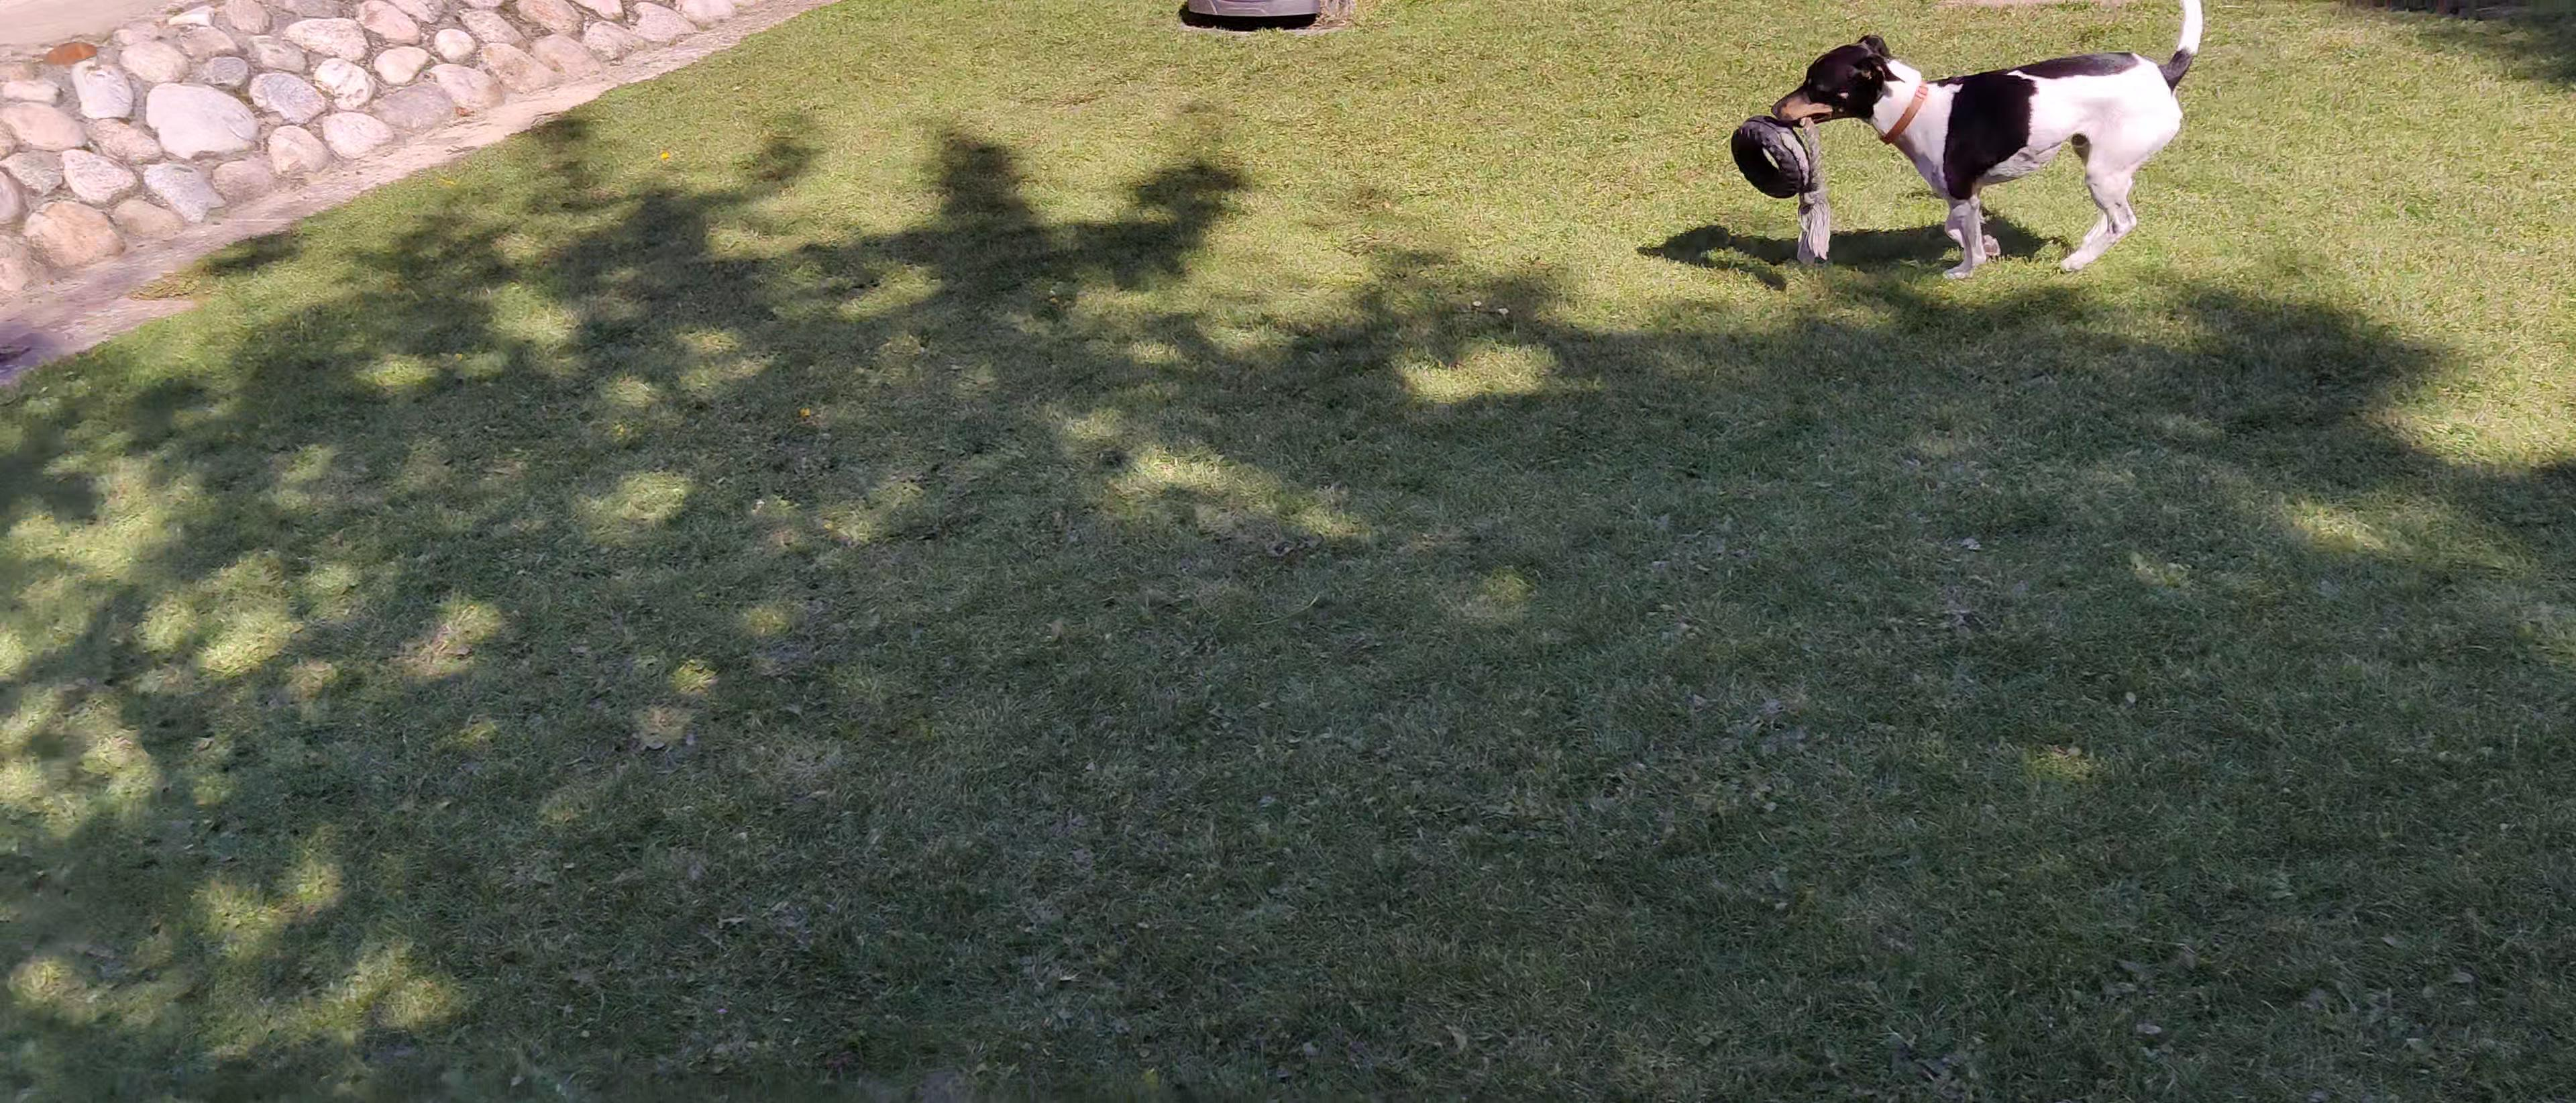Dog: (1761, 0, 2224, 284)
